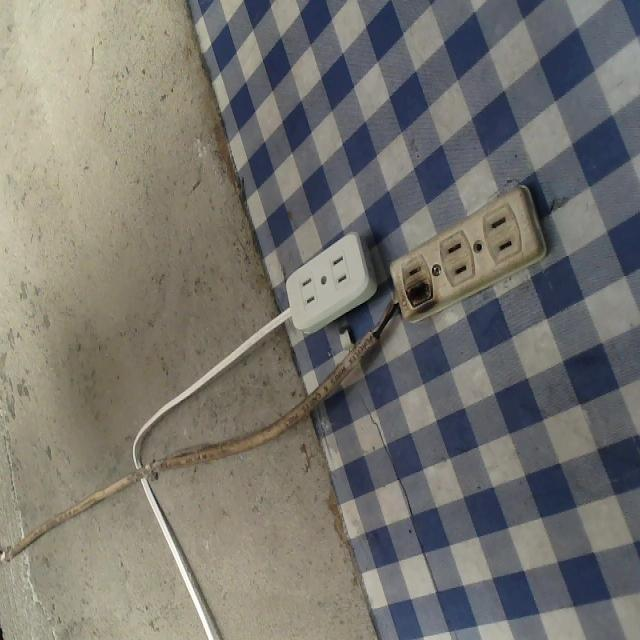-: (402, 276, 436, 309)
